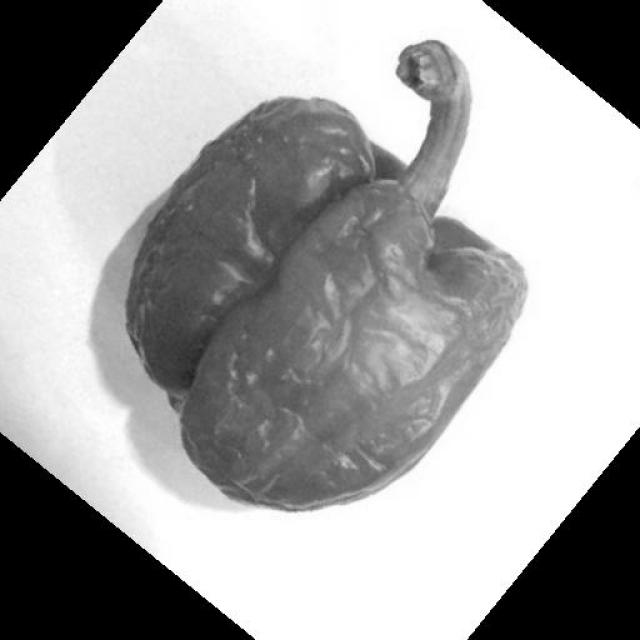Stale_Capsicum: (113, 38, 517, 473)
